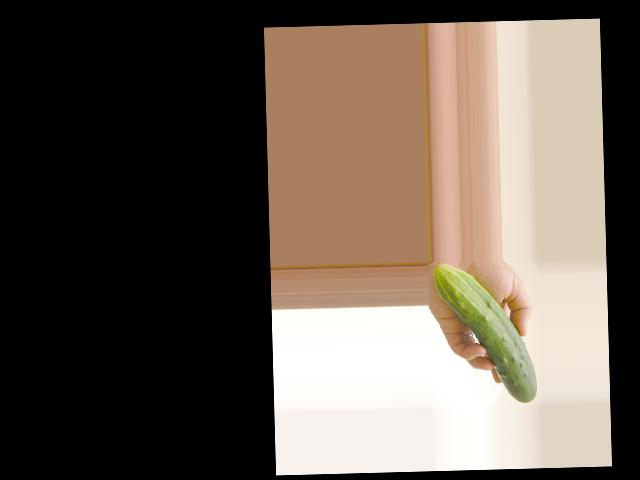cucumber: (432, 262, 536, 405)
